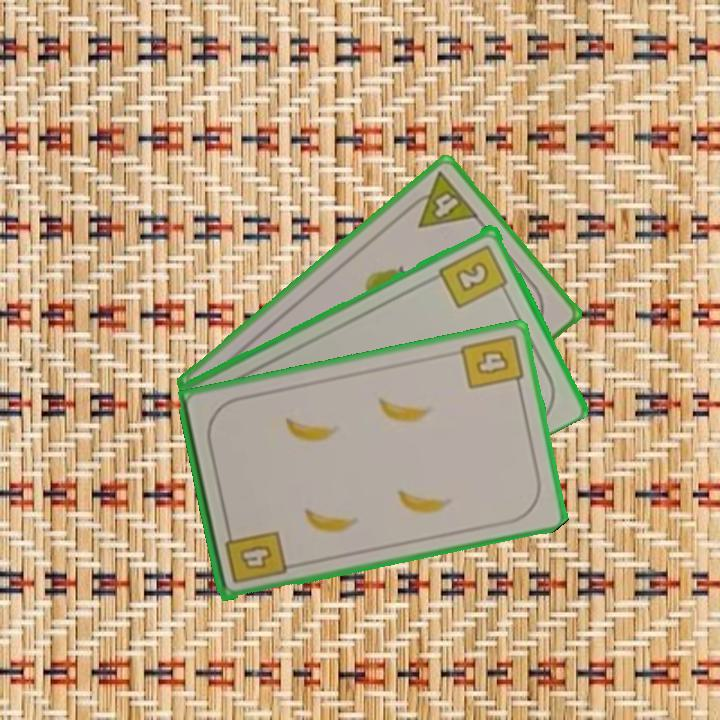2b: (435, 241, 512, 311)
4b: (457, 330, 526, 394), (221, 523, 289, 586)
4p: (401, 168, 482, 231)
